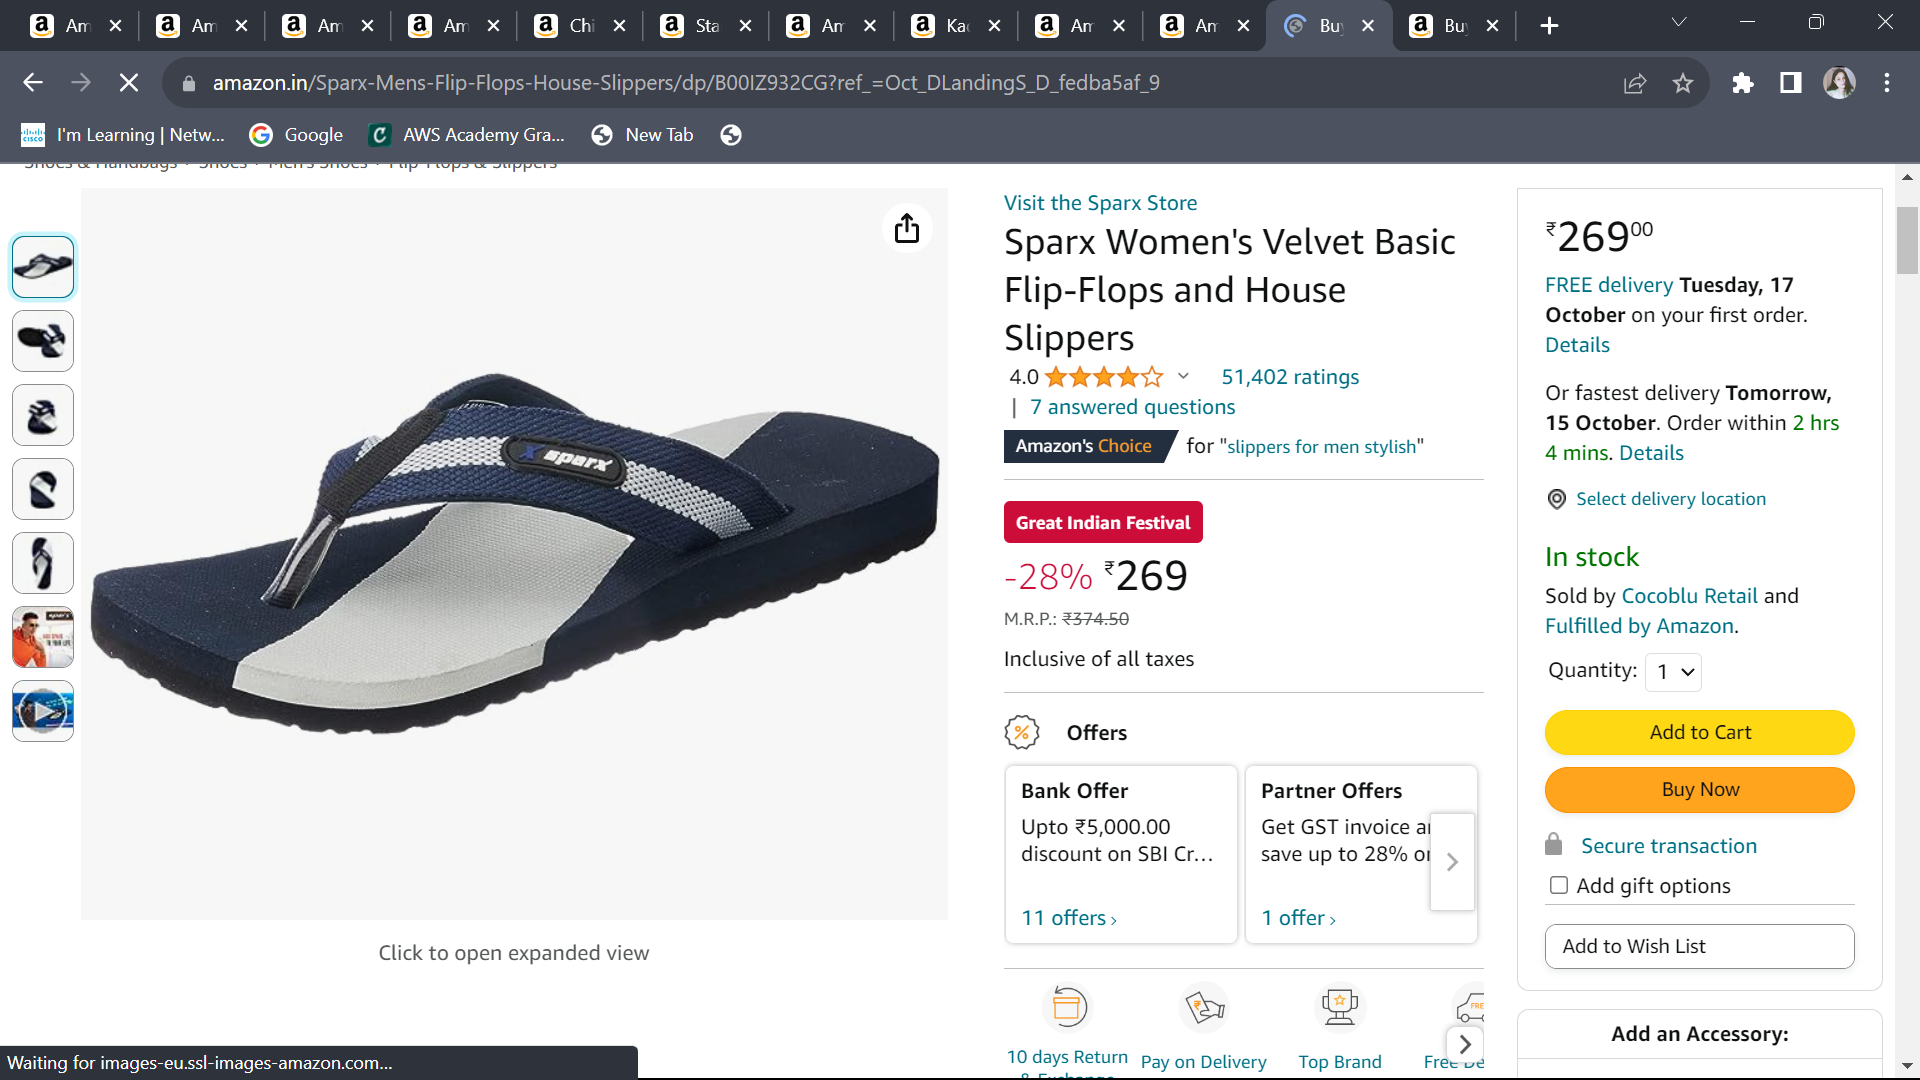Image: (75, 239, 944, 833), (944, 538, 1249, 638)
Paragraph: (973, 702, 1478, 961), (992, 203, 1493, 355), (1540, 272, 1845, 463), (1540, 696, 1878, 818), (992, 394, 1451, 472), (1516, 822, 1884, 907), (1540, 579, 1807, 645), (992, 352, 1400, 392), (1535, 487, 1788, 529), (1535, 212, 1691, 269), (1516, 926, 1743, 961), (980, 645, 1212, 678), (1547, 657, 1720, 696), (1535, 543, 1660, 583)
